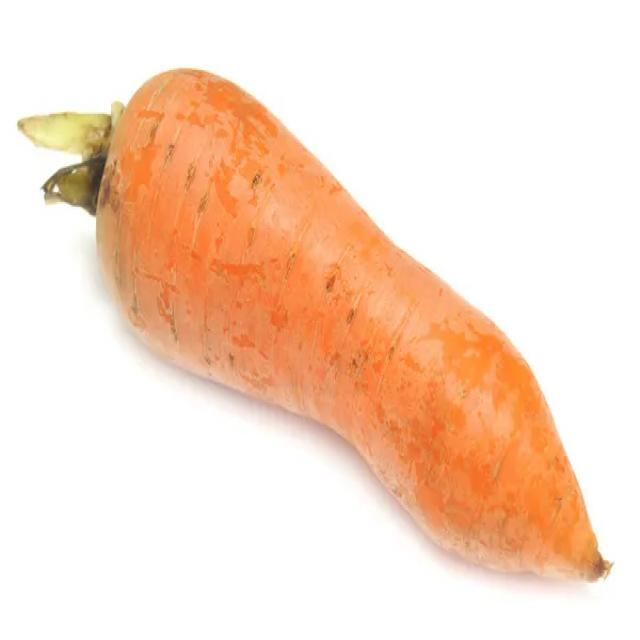Carrot: (12, 63, 616, 590)
